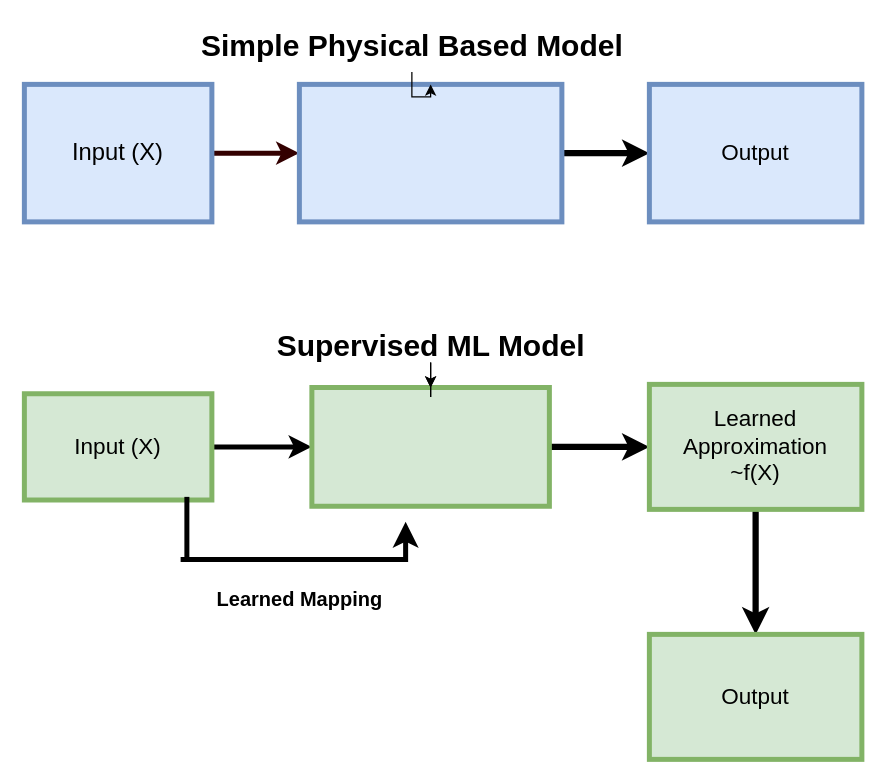
The diagram is 885 pixels wide and 783 high, and some of its shapes have lost their labels. Each missing label, with the box of its shape:
Known function built on physical laws / scientific knowledge f(X): (296, 81, 564, 224)
Target output: (309, 384, 551, 508)
